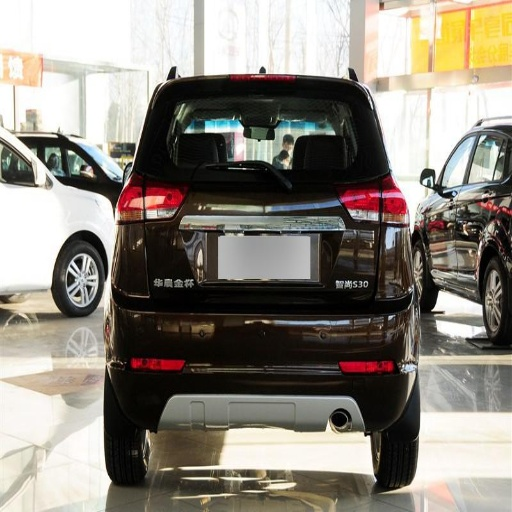back_bumper: (101, 226, 418, 430)
back_glass: (144, 89, 380, 189)
back_left_door: (458, 130, 509, 271)
tailgate: (243, 230, 375, 316)
trunk: (144, 182, 387, 317)
